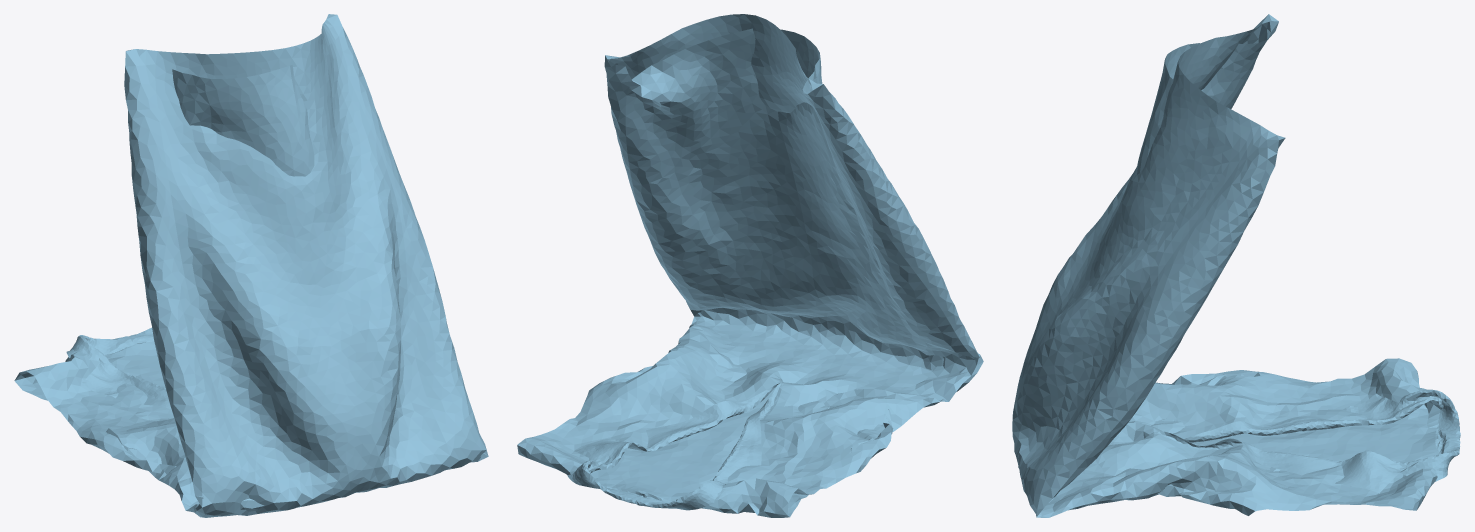
File: frame_15.glb
3 views of the same model, side by side, from view 1: azimuth 30°, elevation 25°; view 2: azimuth 150°, elevation 25°; view 3: azimuth 270°, elevation 25° (orthographic).
Parts seen in each view (by area): view 1: frame_15.obj; view 2: frame_15.obj; view 3: frame_15.obj.
Part boxes in pixels (<box>): frame_15.obj: <box>14,14,488,517</box>; frame_15.obj: <box>517,14,983,517</box>; frame_15.obj: <box>1012,14,1460,517</box>.
Bounding box in the file's own units: 0.6172 × 0.7961 × 0.8173.
